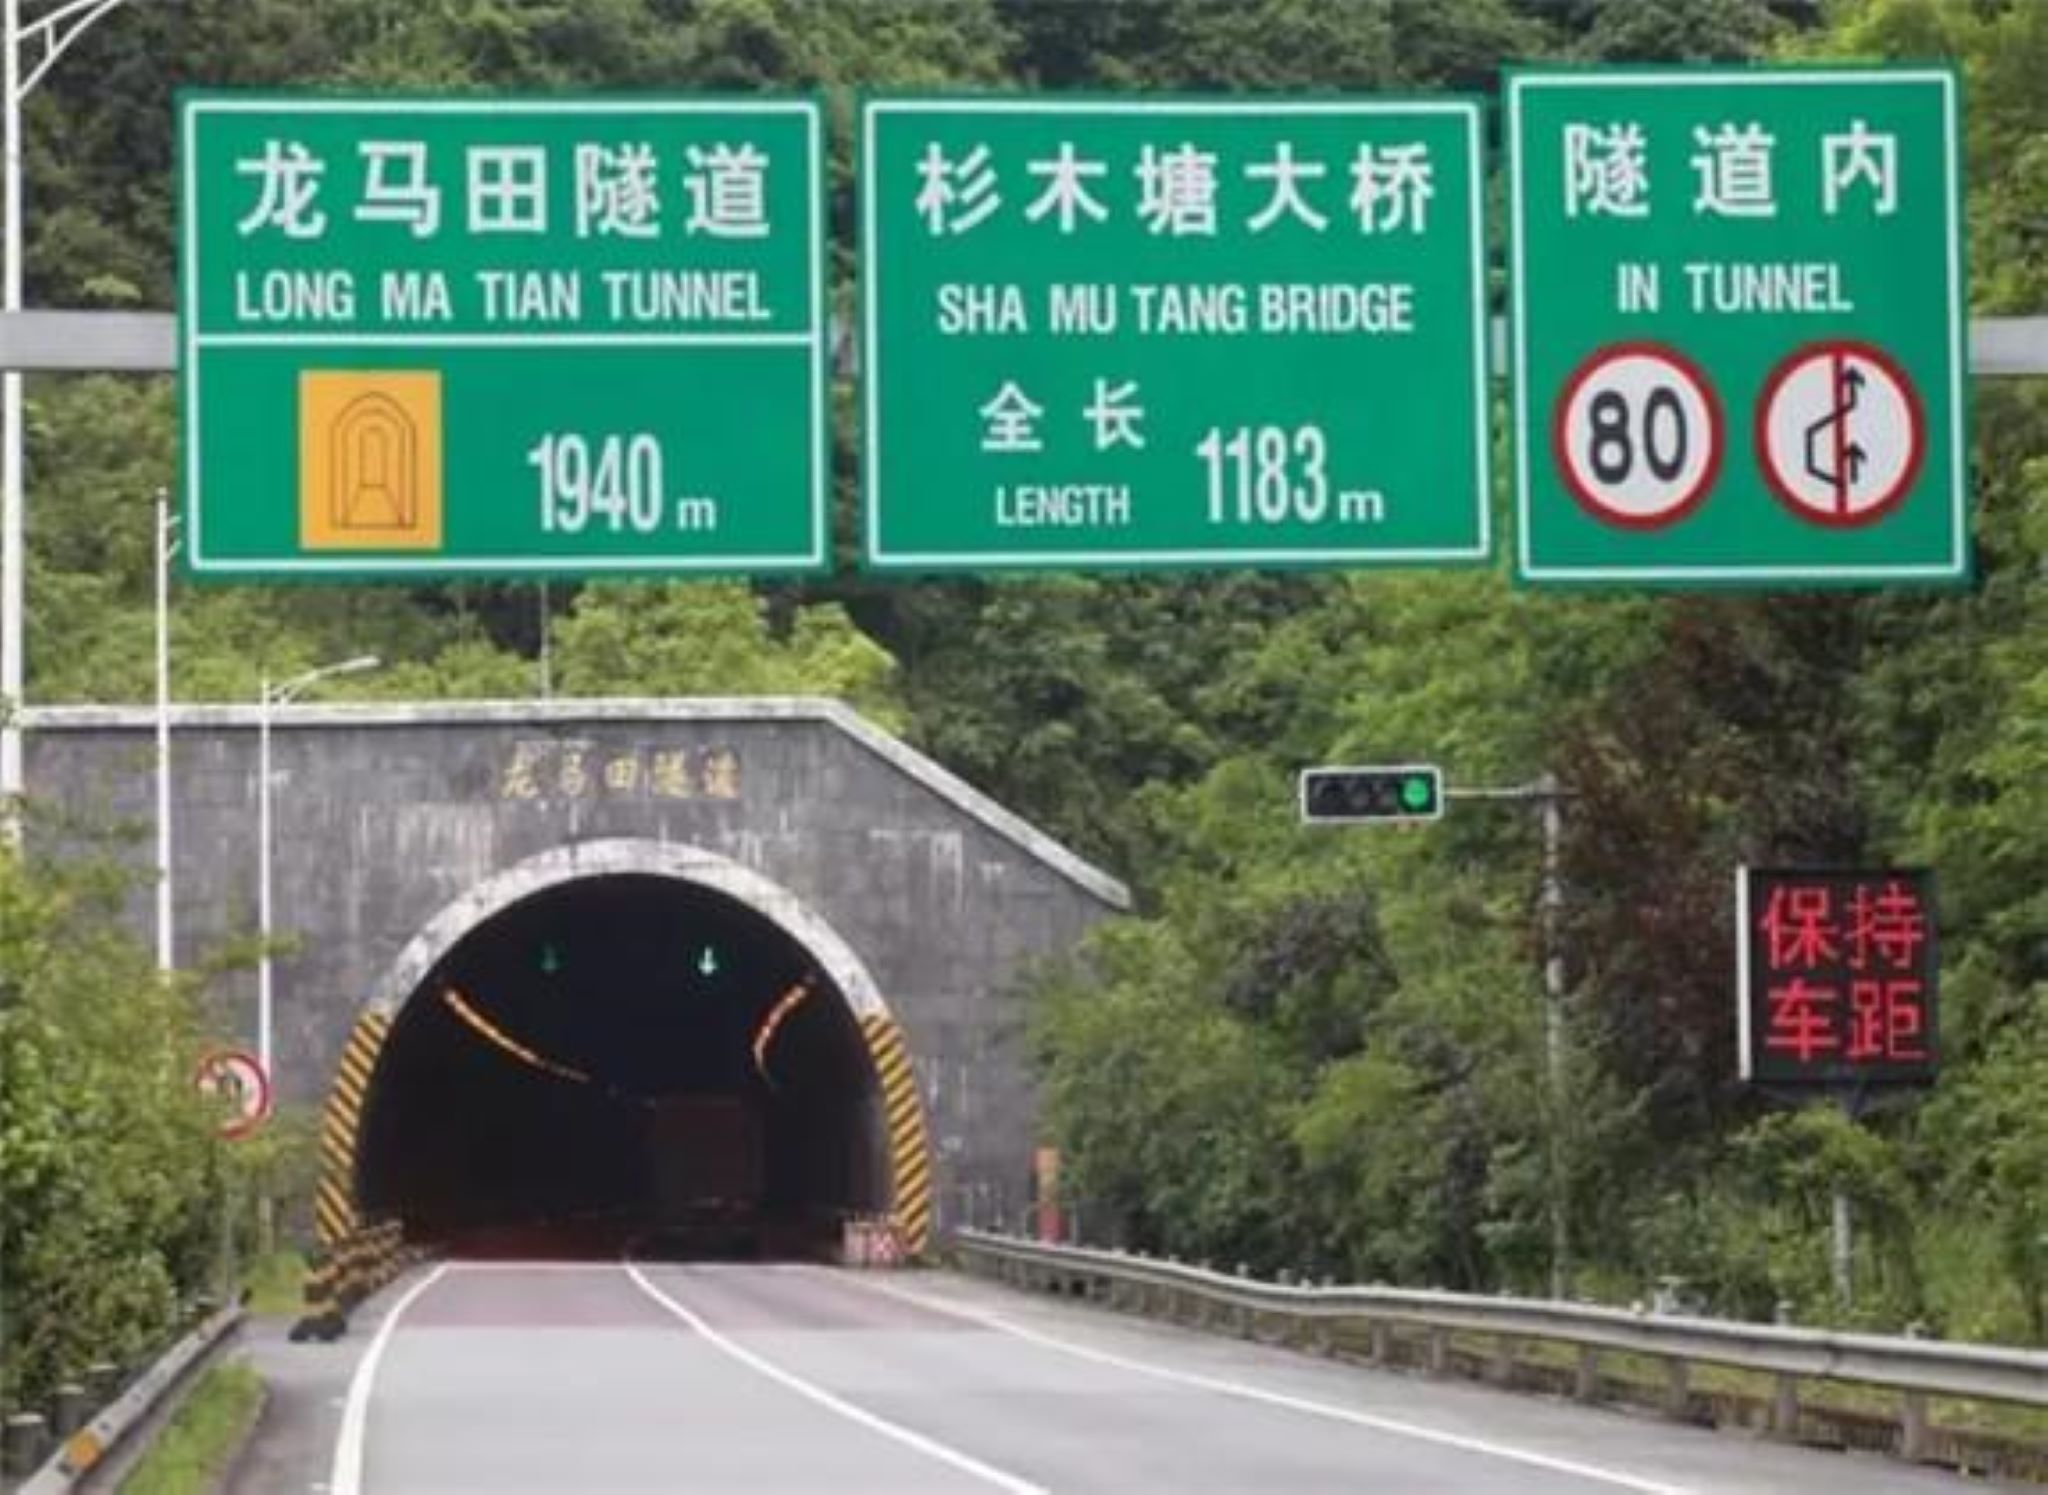p5: (181, 1042, 277, 1136)
pl80: (1557, 345, 1708, 526)
